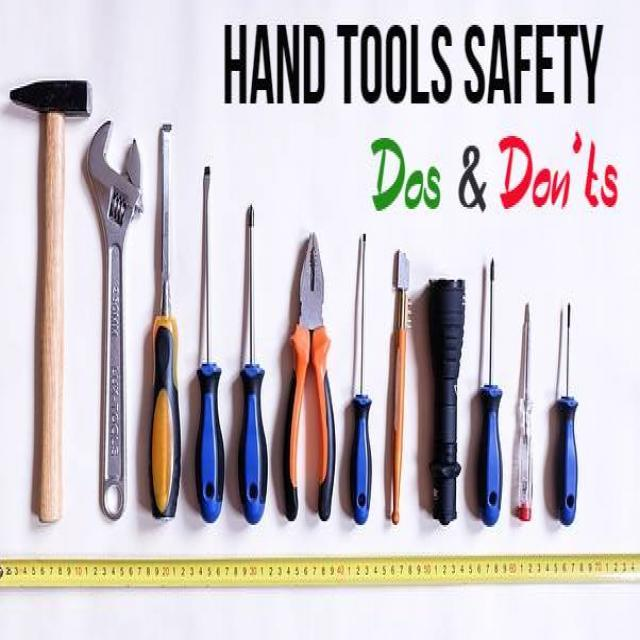screwdriver: (190, 156, 228, 534), (148, 116, 182, 530), (238, 190, 270, 536), (473, 243, 509, 533), (349, 226, 376, 531), (508, 284, 538, 524), (550, 296, 580, 536)
